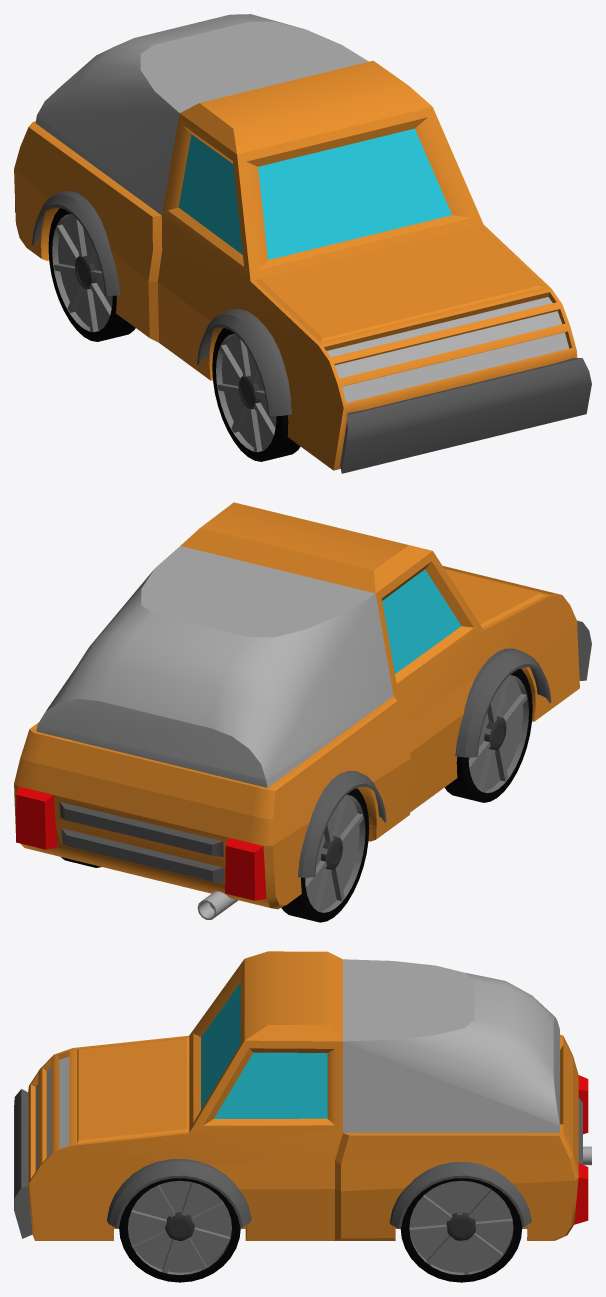
File: car 2.fbx
3 views of the same model, one above another, from view 1: azimuth 30°, elevation 25°; view 2: azimuth 150°, elevation 25°; view 3: azimuth 270°, elevation 25° (orthographic). The views are drawn at different scales.
Parts seen in each view (by area): view 1: Car 2, Cylinder.011, Cylinder.007, Cylinder.008; view 2: Car 2, Cylinder.011, Cylinder.007, Cylinder.008; view 3: Car 2, Cylinder.009, Cylinder.010, Cylinder.011.
Part boxes in pixels (left/top/right/bottom): Car 2: left=14, top=14, right=591, bottom=473; Cylinder.011: left=32, top=190, right=291, bottom=416; Cylinder.007: left=212, top=328, right=300, bottom=461; Cylinder.008: left=48, top=208, right=135, bottom=341; Car 2: left=14, top=502, right=591, bottom=919; Cylinder.011: left=298, top=648, right=551, bottom=877; Cylinder.007: left=444, top=668, right=532, bottom=802; Cylinder.008: left=281, top=788, right=369, bottom=922; Car 2: left=14, top=951, right=591, bottom=1240; Cylinder.009: left=119, top=1178, right=240, bottom=1282; Cylinder.010: left=400, top=1178, right=522, bottom=1282; Cylinder.011: left=107, top=1159, right=531, bottom=1228.
Size of the model in its own units: 242 by 231 by 500.
